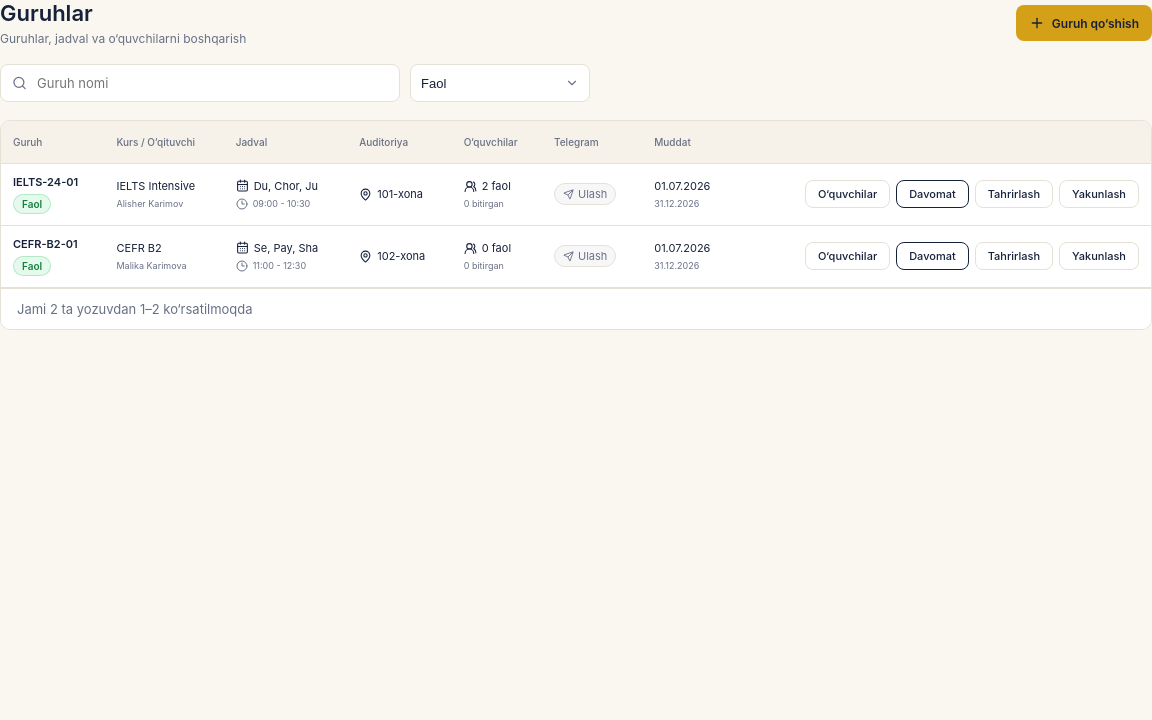
Senior Pro Client Requirements Verification › Requirement 2 & 3: Guruhlarni bosganda o‘quvchilar chiqishi, davomat olish va o‘quvchi qo‘shish/o‘chirish › clicking explicit O‘quvchilar button in group row opens group roster modal
The width and height of the screenshot is (1152, 720).
Expected: the text "IELTS-24-01" is shown, [13,174,78,188]
Click the button with aria-label "IELTS-24-01 o‘quvchilar ro‘yxati": click(848, 194) [805,180,890,208]
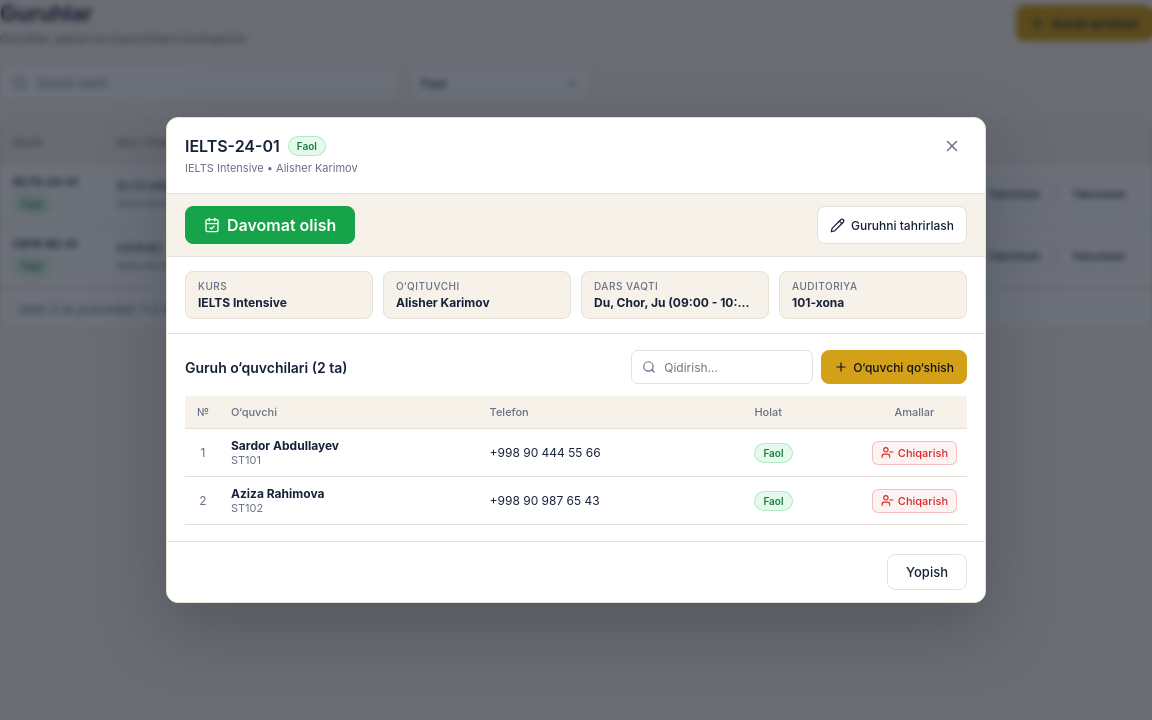
Now the heading "IELTS-24-01" is shown, box [185,136,280,156]
Now the text "Sardor Abdullayev" is shown, box [231,438,339,453]
